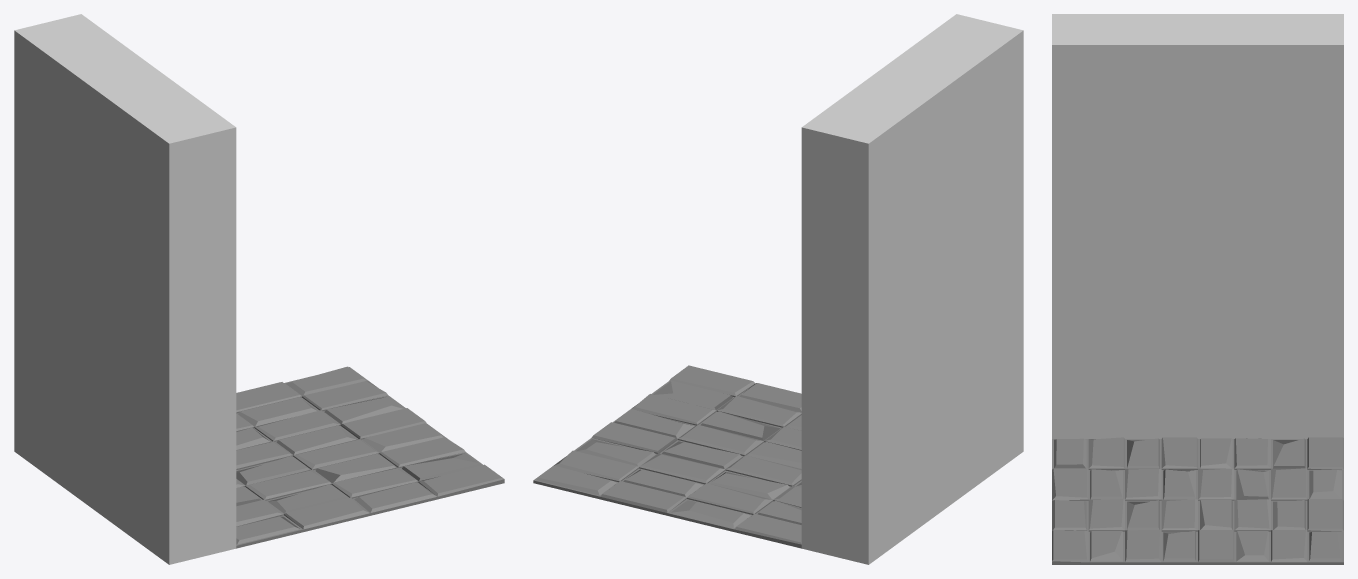
Rendered from parede_teste.fbx.
3 views of the same model, side by side, from view 1: azimuth 30°, elevation 25°; view 2: azimuth 150°, elevation 25°; view 3: azimuth 270°, elevation 25° (orthographic). The views are drawn at different scales.
Parts seen in each view (by area): view 1: Cube, Plane; view 2: Cube, Plane; view 3: Cube, Plane.
Part boxes in pixels (x1,y1,x2,y2): Cube: (14,14,236,564); Plane: (236,366,504,548); Cube: (801,14,1023,564); Plane: (533,365,801,548); Cube: (1052,14,1343,438); Plane: (1052,437,1343,564).
Size of the model in its own units: 5 by 6 by 4.
